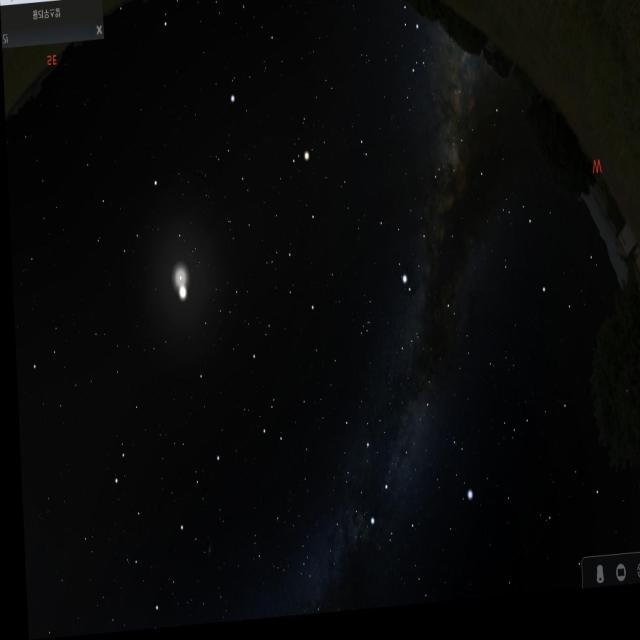aquila: (370, 169, 447, 314)
cygnus: (354, 394, 438, 544)
lyra: (446, 428, 471, 516)
moon: (153, 245, 204, 312)
